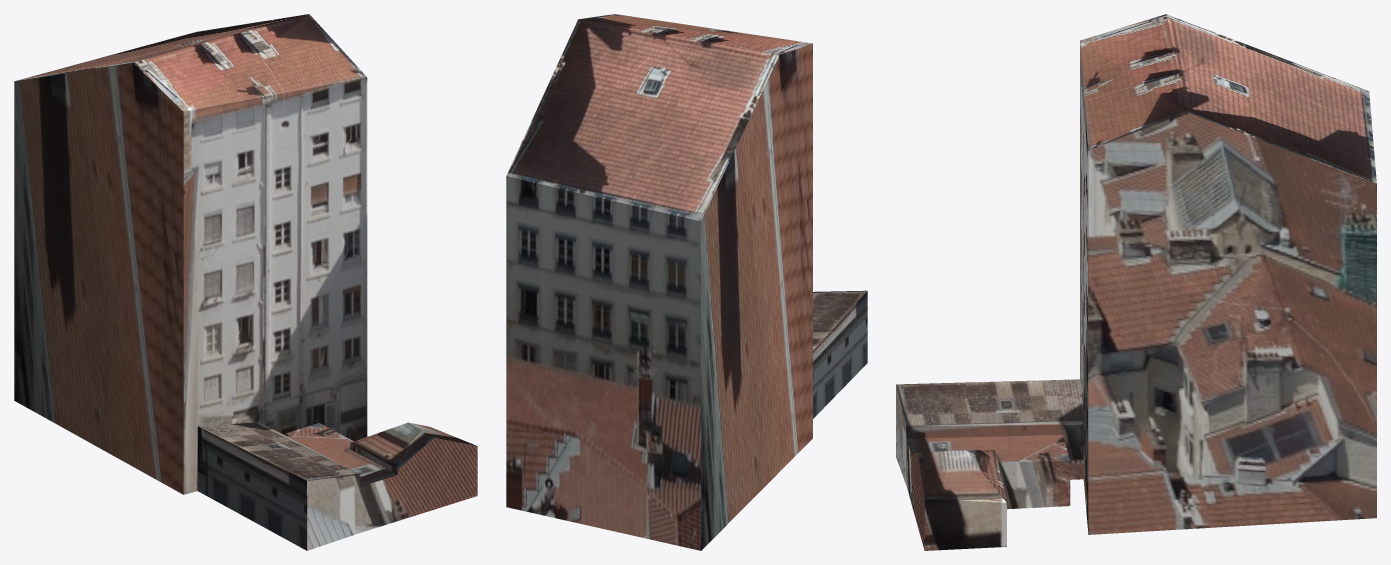
3 renders of one model, left to right at view 1: azimuth 30°, elevation 25°; view 2: azimuth 150°, elevation 25°; view 3: azimuth 270°, elevation 25°, orthographic. The views are drawn at different scales.
Visible parts, largest first — view 1: Z_UP; view 2: Z_UP; view 3: Z_UP.
Boxes of the visible parts, x1,y1,x2,y2 form: Z_UP: (14, 14, 477, 550); Z_UP: (506, 14, 867, 550); Z_UP: (896, 14, 1376, 550).
Size of the model in its own units: 16.4 by 25.35 by 26.24.
Materials: 2 (1 with a texture image).
